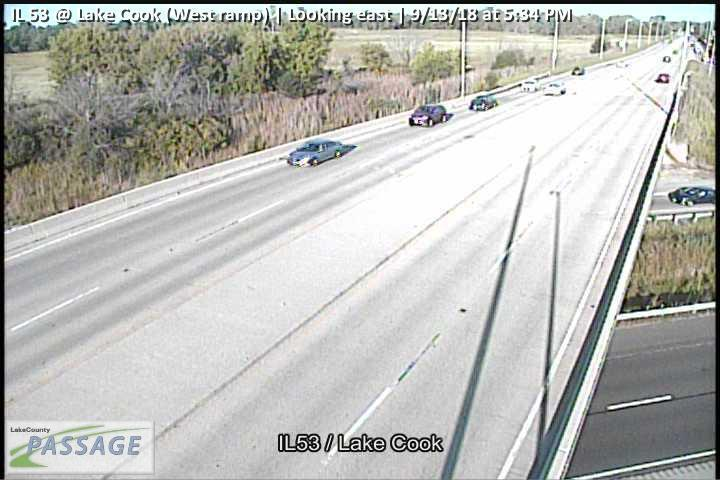SUV: (409, 104, 445, 128)
Sedan: (287, 138, 343, 167), (668, 186, 716, 205), (470, 96, 499, 110)
